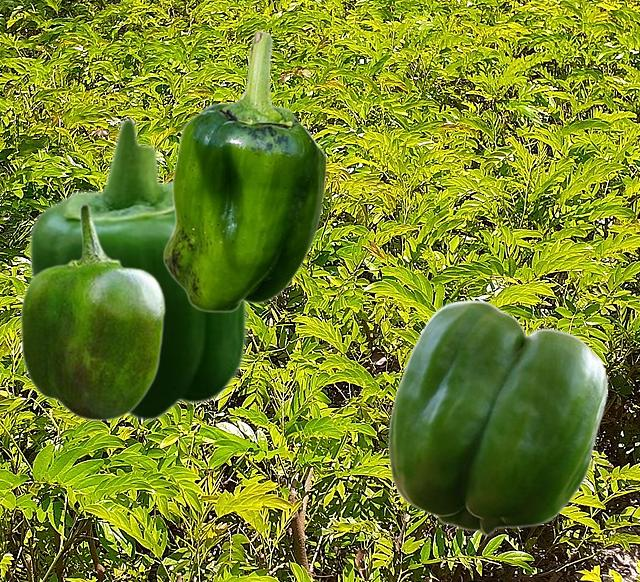bell_pepper: (27, 116, 248, 422), (387, 299, 607, 535), (162, 29, 326, 312), (19, 202, 165, 421)
